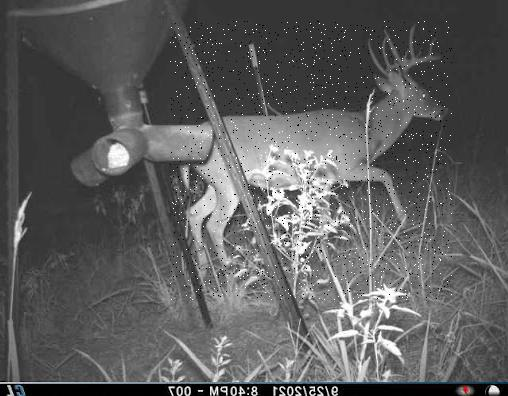Deer: (170, 21, 452, 300)
